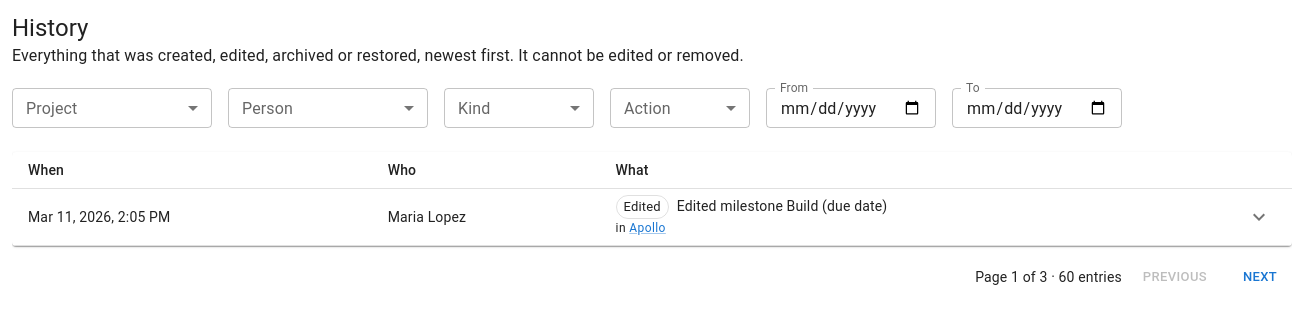
Test case: HistoryPage › pages through a long history
Expected: the text "Page 1 of 3 · 60 entries" is shown, [975,267,1122,287]
Expected: the button "Previous" is disabled, [1138,262,1212,293]
Click the button "Next": (1260, 277) [1228,262,1292,293]
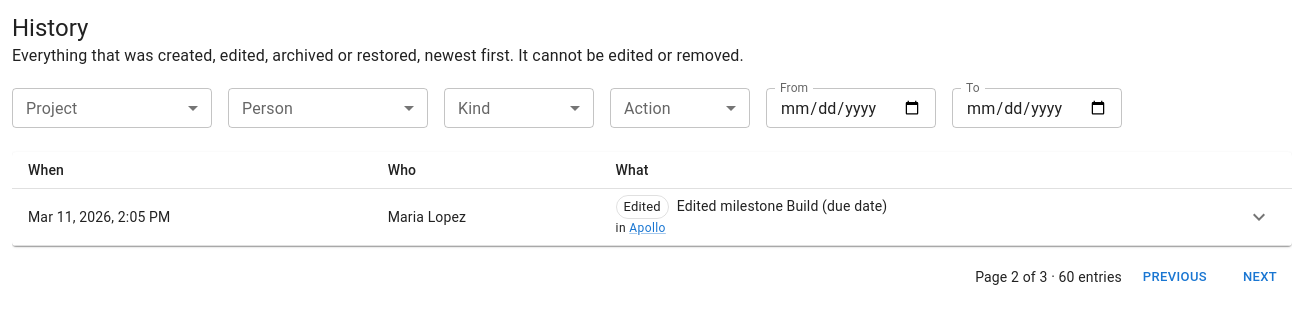
Expected: the text "Page 2 of 3 · 60 entries" is shown, [975,267,1122,287]
Click the button "Next": (1260, 277) [1228,262,1292,293]
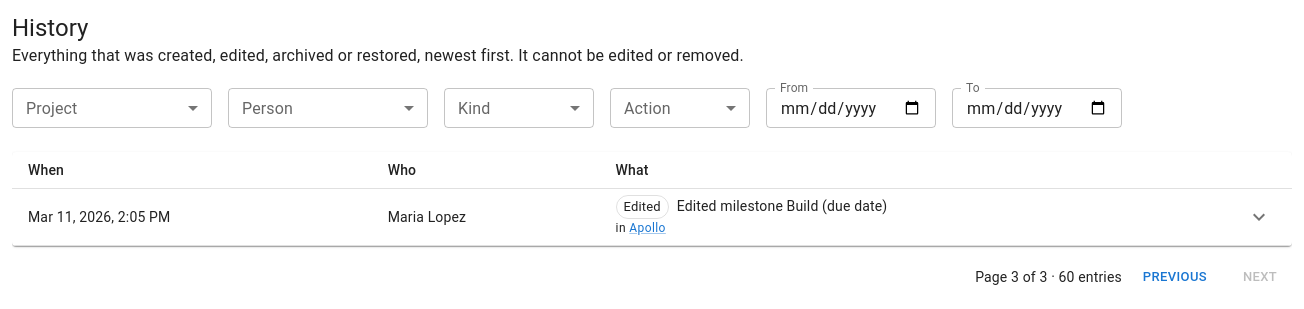
Expected: the text "Page 3 of 3 · 60 entries" is shown, [975,267,1122,287]
Expected: the button "Next" is disabled, [1228,262,1292,293]
